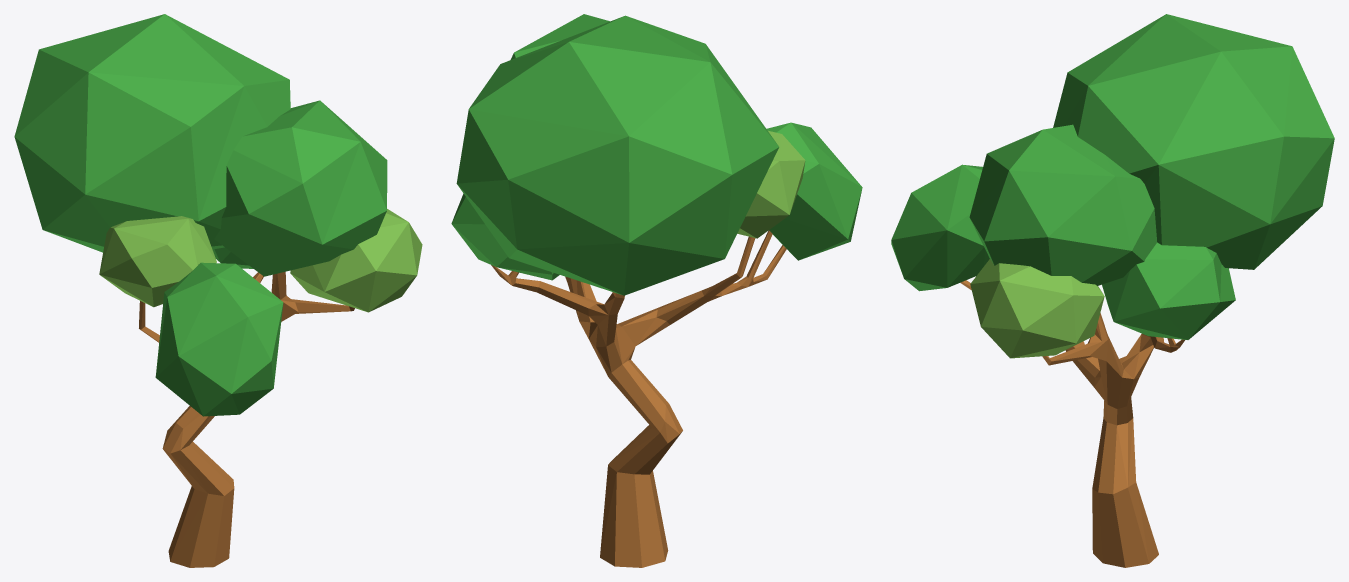
The model's file is tree_02.glb.
3 renders of one model, left to right at view 1: azimuth 30°, elevation 25°; view 2: azimuth 150°, elevation 25°; view 3: azimuth 270°, elevation 25°, orthographic. The views are drawn at different scales.
Parts seen in each view (by area): view 1: Lowpoly_Tree_02_Material.002_0, Lowpoly_Tree_02_Material.001_0, Lowpoly_Tree_02_Material_0; view 2: Lowpoly_Tree_02_Material.002_0, Lowpoly_Tree_02_Material_0, Lowpoly_Tree_02_Material.001_0; view 3: Lowpoly_Tree_02_Material.002_0, Lowpoly_Tree_02_Material_0, Lowpoly_Tree_02_Material.001_0.
Part boxes in pixels (x1,y1,x2,y2): Lowpoly_Tree_02_Material.002_0: (14, 14, 387, 416); Lowpoly_Tree_02_Material.001_0: (99, 209, 422, 312); Lowpoly_Tree_02_Material_0: (139, 271, 354, 567); Lowpoly_Tree_02_Material.002_0: (451, 14, 862, 295); Lowpoly_Tree_02_Material_0: (491, 230, 786, 567); Lowpoly_Tree_02_Material.001_0: (737, 130, 805, 238); Lowpoly_Tree_02_Material.002_0: (891, 14, 1334, 339); Lowpoly_Tree_02_Material_0: (960, 280, 1184, 567); Lowpoly_Tree_02_Material.001_0: (970, 259, 1104, 358).
Size of the model in its own units: 1 by 1.55 by 1.23.
